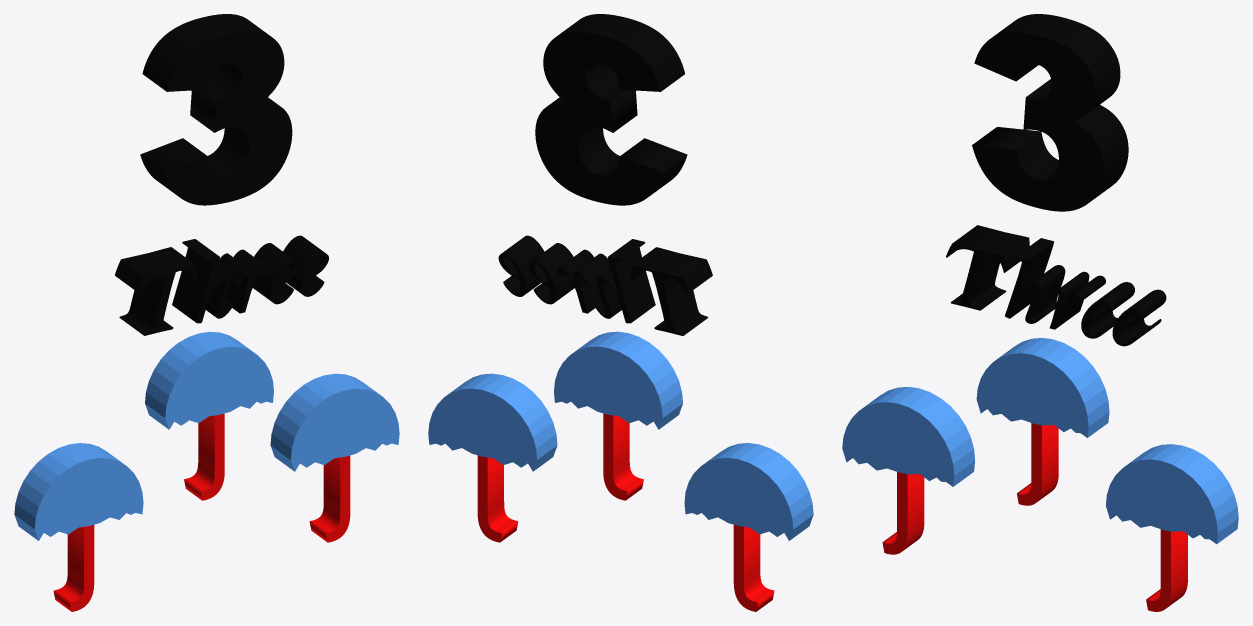
Rendered from Number_3.glb.
3 views of the same model, side by side, from view 1: azimuth 30°, elevation 25°; view 2: azimuth 150°, elevation 25°; view 3: azimuth 330°, elevation 25° (orthographic). The views are drawn at different scales.
Visible parts, largest first — view 1: Text, Text.001, Cylinder, Cylinder.001, Cylinder.002, Text.003, Text.002, Text.004; view 2: Text, Text.001, Cylinder.001, Cylinder, Cylinder.002, Text.002, Text.003, Text.004; view 3: Text, Text.001, Cylinder.001, Cylinder.002, Cylinder, Text.003, Text.004, Text.002.
Part boxes in pixels (x1,y1,x2,y2): Text: [140, 14, 292, 205]; Text.001: [115, 235, 328, 335]; Cylinder: [14, 443, 143, 540]; Cylinder.001: [270, 373, 399, 471]; Cylinder.002: [145, 331, 273, 429]; Text.003: [309, 455, 350, 542]; Text.002: [53, 525, 94, 611]; Text.004: [184, 413, 224, 500]; Text: [535, 14, 687, 205]; Text.001: [498, 235, 712, 335]; Cylinder.001: [428, 373, 557, 471]; Cylinder: [684, 443, 813, 540]; Cylinder.002: [554, 331, 682, 429]; Text.002: [733, 525, 774, 611]; Text.003: [477, 455, 518, 542]; Text.004: [603, 413, 643, 500]; Text: [972, 14, 1128, 211]; Text.001: [946, 225, 1166, 346]; Cylinder.001: [1106, 444, 1238, 544]; Cylinder.002: [976, 338, 1109, 437]; Cylinder: [842, 387, 975, 486]; Text.003: [1146, 529, 1187, 611]; Text.004: [1017, 423, 1058, 505]; Text.002: [882, 472, 924, 554].
Size of the model in its own units: 1.04 by 1.47 by 0.12.
